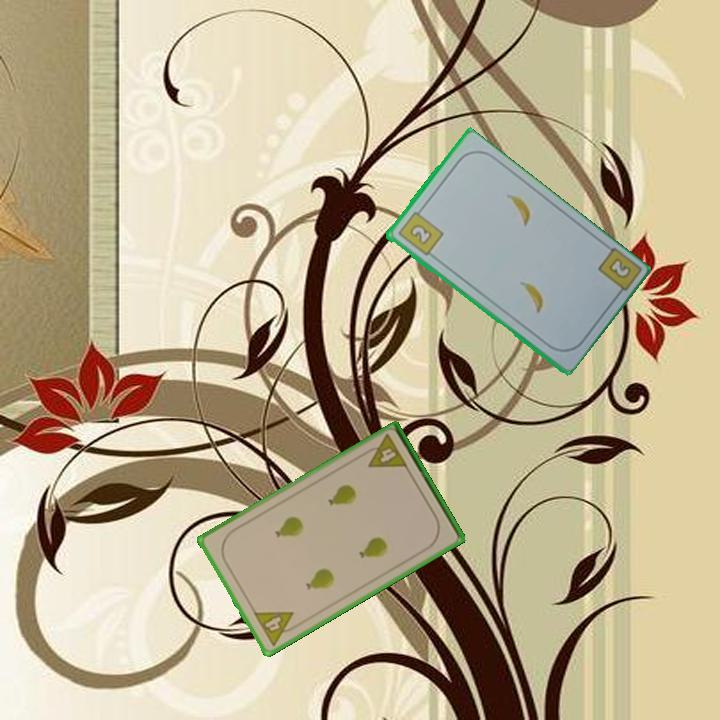2b: (394, 204, 446, 259), (604, 254, 634, 281)
4p: (250, 608, 303, 649), (359, 431, 410, 471)
